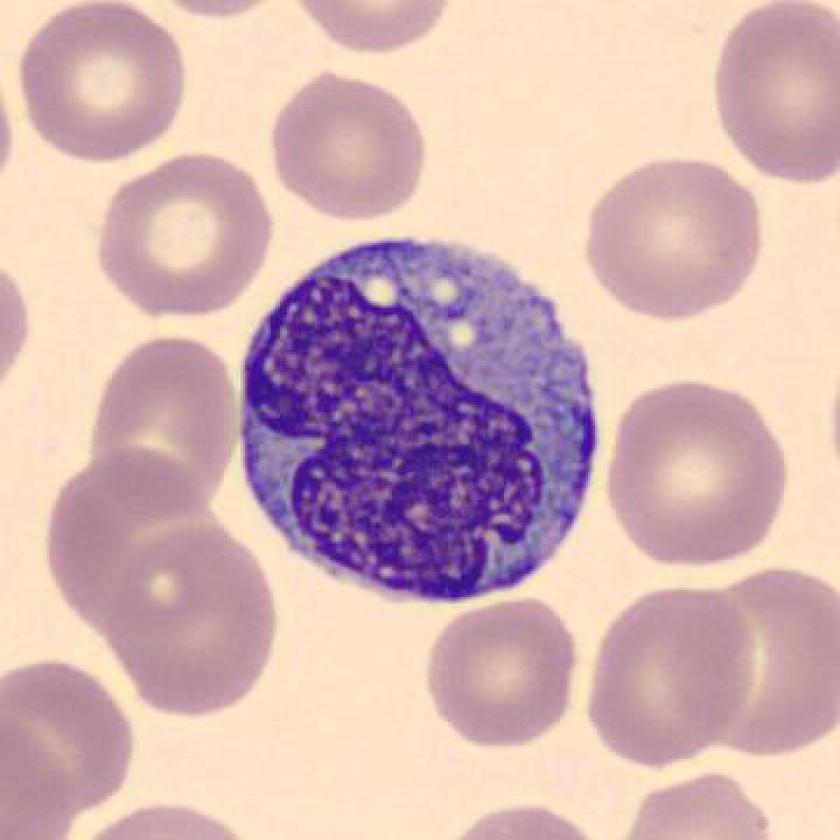monocyte: (216, 216, 624, 612)
